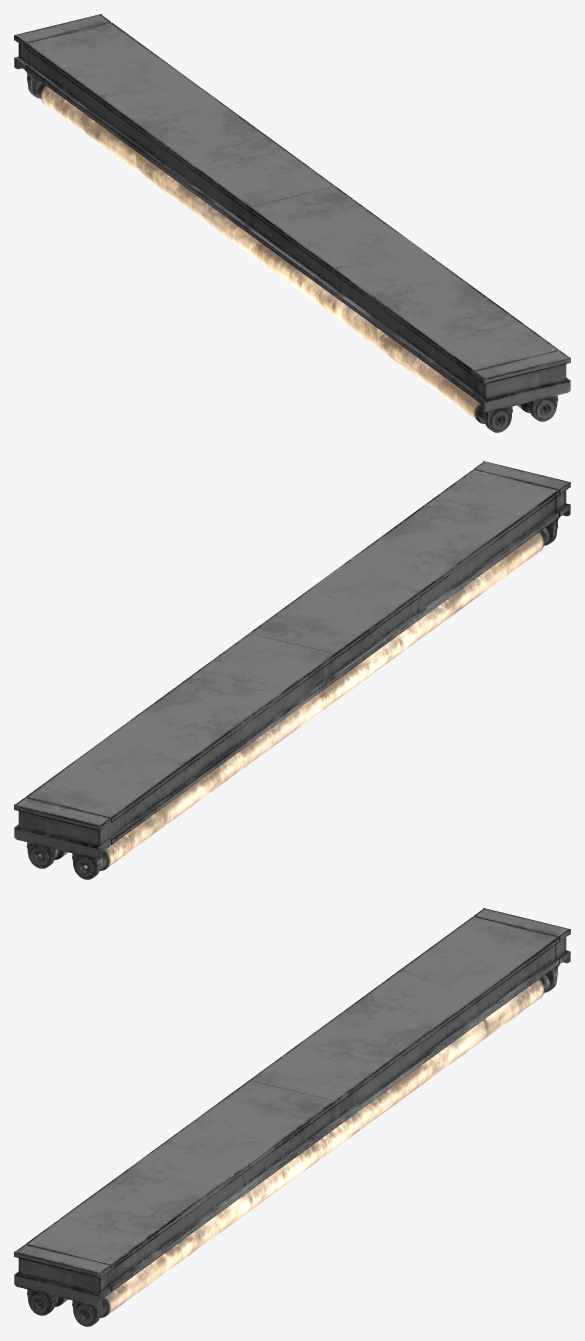
3 views of the same model, one above another, from view 1: azimuth 30°, elevation 25°; view 2: azimuth 150°, elevation 25°; view 3: azimuth 330°, elevation 25° (orthographic).
Parts seen in each view (by area): view 1: Fluorescent_Light _Fluorescent_Light_MTL_0; view 2: Fluorescent_Light _Fluorescent_Light_MTL_0; view 3: Fluorescent_Light _Fluorescent_Light_MTL_0.
Part boxes in pixels (x1=…): Fluorescent_Light _Fluorescent_Light_MTL_0: x1=14, y1=14, x2=570, y2=432; Fluorescent_Light _Fluorescent_Light_MTL_0: x1=14, y1=461, x2=570, y2=879; Fluorescent_Light _Fluorescent_Light_MTL_0: x1=14, y1=908, x2=570, y2=1326.
Size of the model in its own units: 0.1344 by 0.0921 by 1.26.
Materials: 1 (1 with a texture image).
